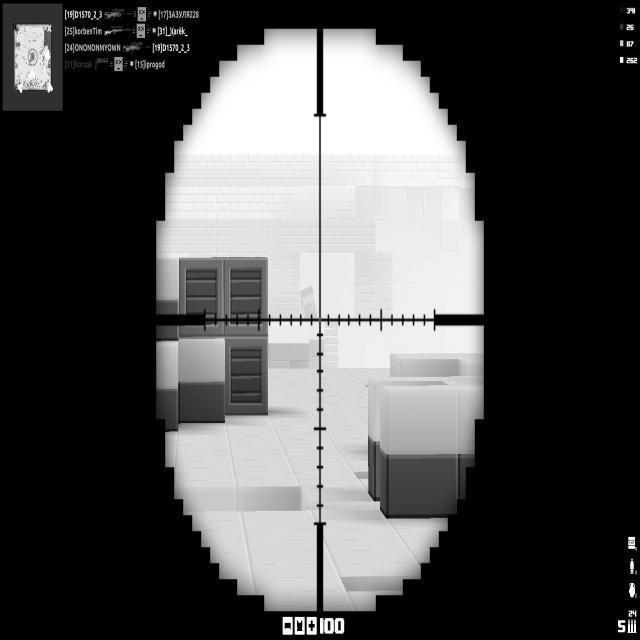Head: (301, 287, 314, 306)
Player: (300, 286, 319, 322)
